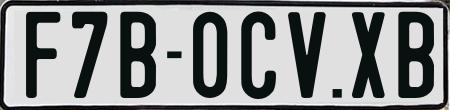0: (190, 12, 228, 100)
7: (72, 10, 109, 97)
B: (396, 10, 435, 96), (120, 9, 156, 97)
C: (238, 10, 279, 102)
F: (26, 9, 62, 97)
V: (288, 10, 328, 100)
X: (351, 9, 388, 100)
